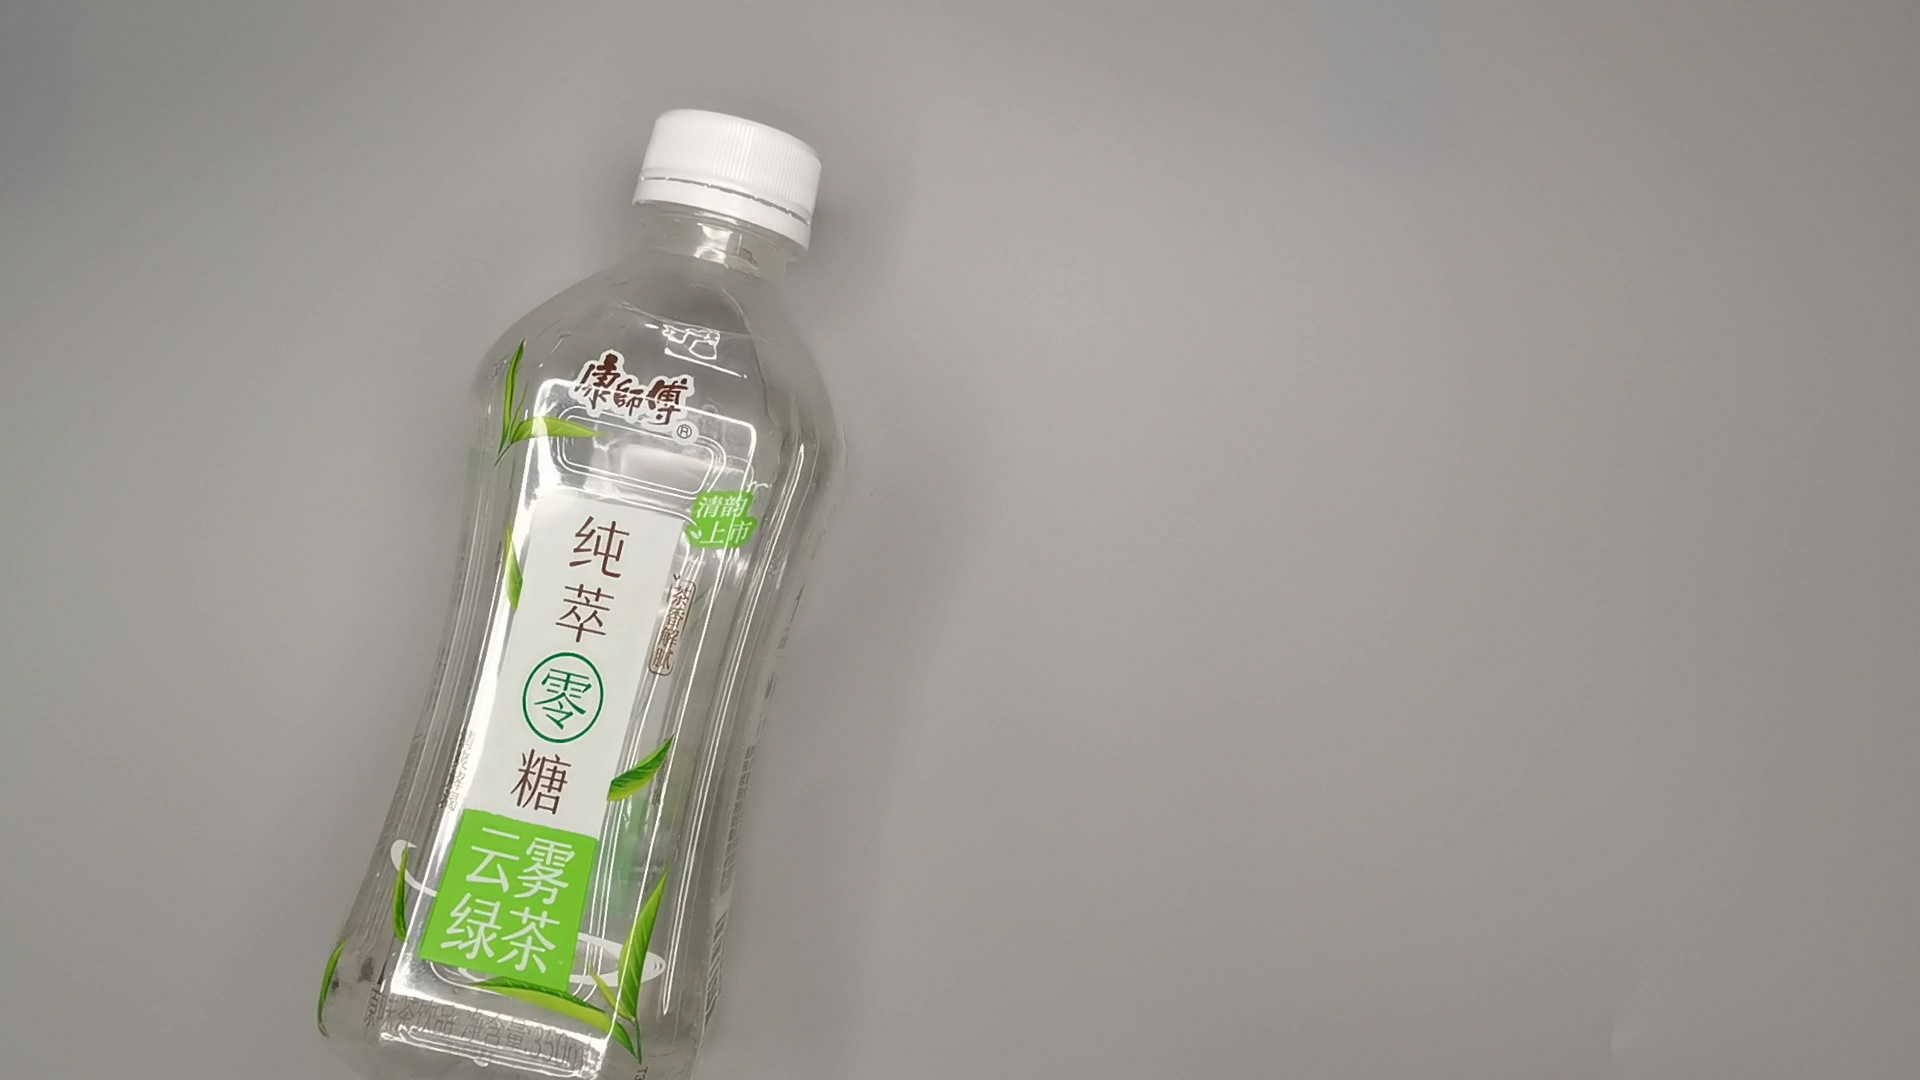bottle: (291, 98, 849, 1080)
